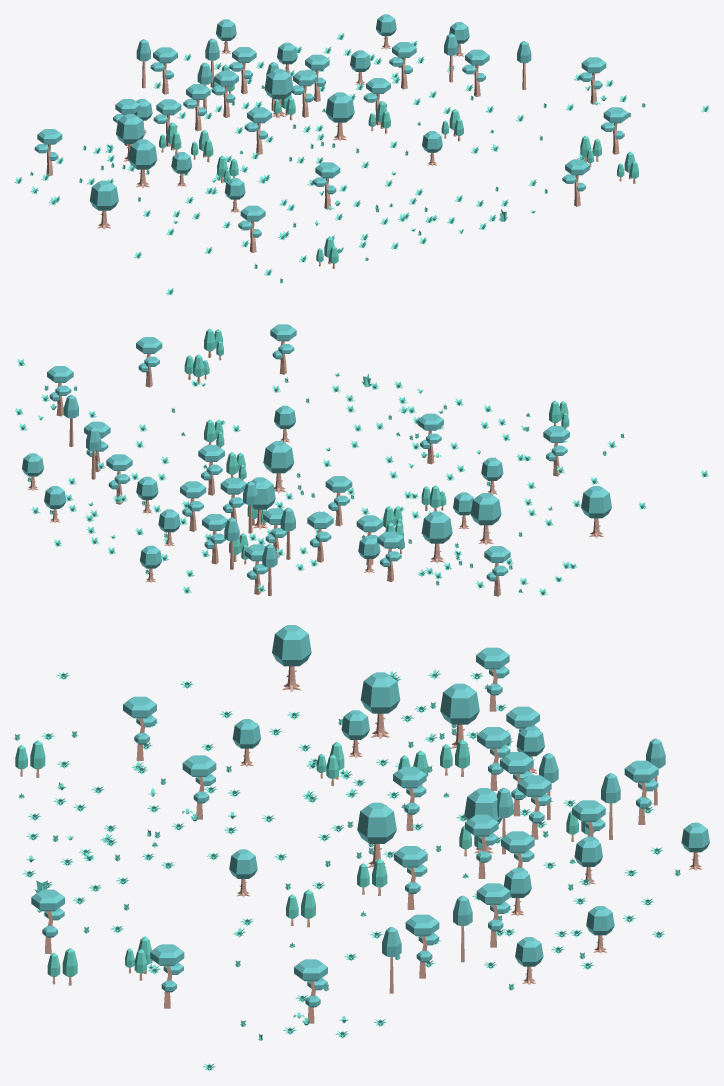
3 views of the same model, one above another, from view 1: azimuth 30°, elevation 25°; view 2: azimuth 150°, elevation 25°; view 3: azimuth 270°, elevation 25° (orthographic). The views are drawn at different scales.
Parts seen in each view (by area): view 1: tree_oak_dark.004, tree_oak_dark.001, tree_oak_dark.003, tree_oak_dark.012, tree_oak_dark.011, tree_plateau_dark.005, tree_plateau_dark.004, tree_plateau_dark.007, tree_plateau_dark.009, tree_plateau_dark.001, tree_plateau_dark.003, tree_plateau_dark.016 (+16 smaller); view 2: tree_oak_dark.011, tree_oak_dark.003, tree_oak_dark.001, tree_oak_dark.004, tree_plateau_dark.007, tree_plateau_dark.008, tree_plateau_dark.014, tree_plateau_dark, tree_plateau_dark.013, tree_plateau_dark.006, tree_plateau_dark.002, tree_plateau_dark.003 (+20 smaller); view 3: tree_oak_dark.001, tree_oak_dark.003, tree_oak_dark.011, tree_oak_dark.004, tree_plateau_dark.005, tree_plateau_dark.016, tree_plateau_dark.004, tree_plateau_dark.010, tree_plateau_dark.013, tree_plateau_dark.001, tree_plateau_dark.007, tree_plateau_dark.003 (+19 smaller).
Part boxes in pixels (x1,y1,x2,y2): tree_oak_dark.004: (325,92,354,141); tree_oak_dark.001: (89,180,118,229); tree_oak_dark.003: (128,139,157,188); tree_oak_dark.012: (264,69,293,117); tree_oak_dark.011: (116,114,144,162); tree_plateau_dark.005: (462,49,489,96); tree_plateau_dark.004: (238,205,265,252); tree_plateau_dark.007: (562,159,589,206); tree_plateau_dark.009: (211,70,238,117); tree_plateau_dark.001: (601,107,628,154); tree_plateau_dark.003: (244,107,271,154); tree_plateau_dark.016: (150,47,177,94); tree_oak_dark.011: (421,511,452,563); tree_oak_dark.003: (470,493,501,545); tree_oak_dark.001: (581,486,611,538); tree_oak_dark.004: (263,441,294,493); tree_plateau_dark.007: (270,324,296,374); tree_plateau_dark.008: (377,531,403,581); tree_plateau_dark.014: (180,481,206,531); tree_plateau_dark: (417,413,443,464); tree_plateau_dark.013: (484,546,510,596); tree_plateau_dark.006: (47,366,73,416); tree_plateau_dark.002: (198,445,224,495); tree_plateau_dark.003: (325,476,352,526); tree_oak_dark.001: (272,625,311,691); tree_oak_dark.003: (360,672,400,738); tree_oak_dark.011: (440,683,479,748); tree_oak_dark.004: (357,802,396,867); tree_plateau_dark.005: (405,914,439,978); tree_plateau_dark.016: (624,760,658,824); tree_plateau_dark.004: (123,696,156,760); tree_plateau_dark.010: (465,814,498,878); tree_plateau_dark.013: (476,647,509,711); tree_plateau_dark.001: (150,944,184,1008); tree_plateau_dark.007: (31,889,64,953); tree_plateau_dark.003: (393,766,426,830).
Size of the model in its own units: 16.22 by 1.41 by 12.
